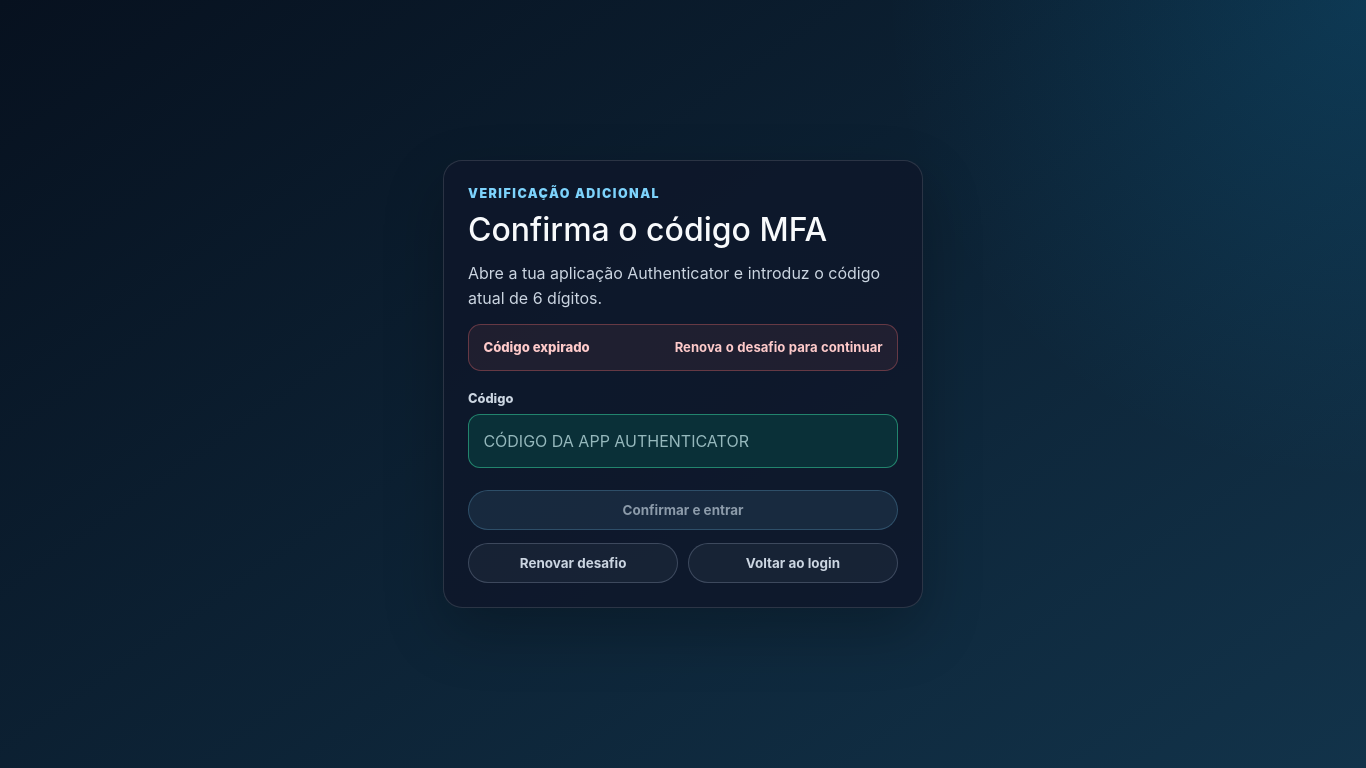
Test case: LoginMFAComponent › lets users renew an expired challenge directly from the MFA screen
Expected: the submit button is disabled, [468, 490, 898, 530]
What coordinates should you click on to do the following:
click the button "Renovar desafio"
I would click on:
 (573, 563)
Its box is [468, 543, 678, 583].
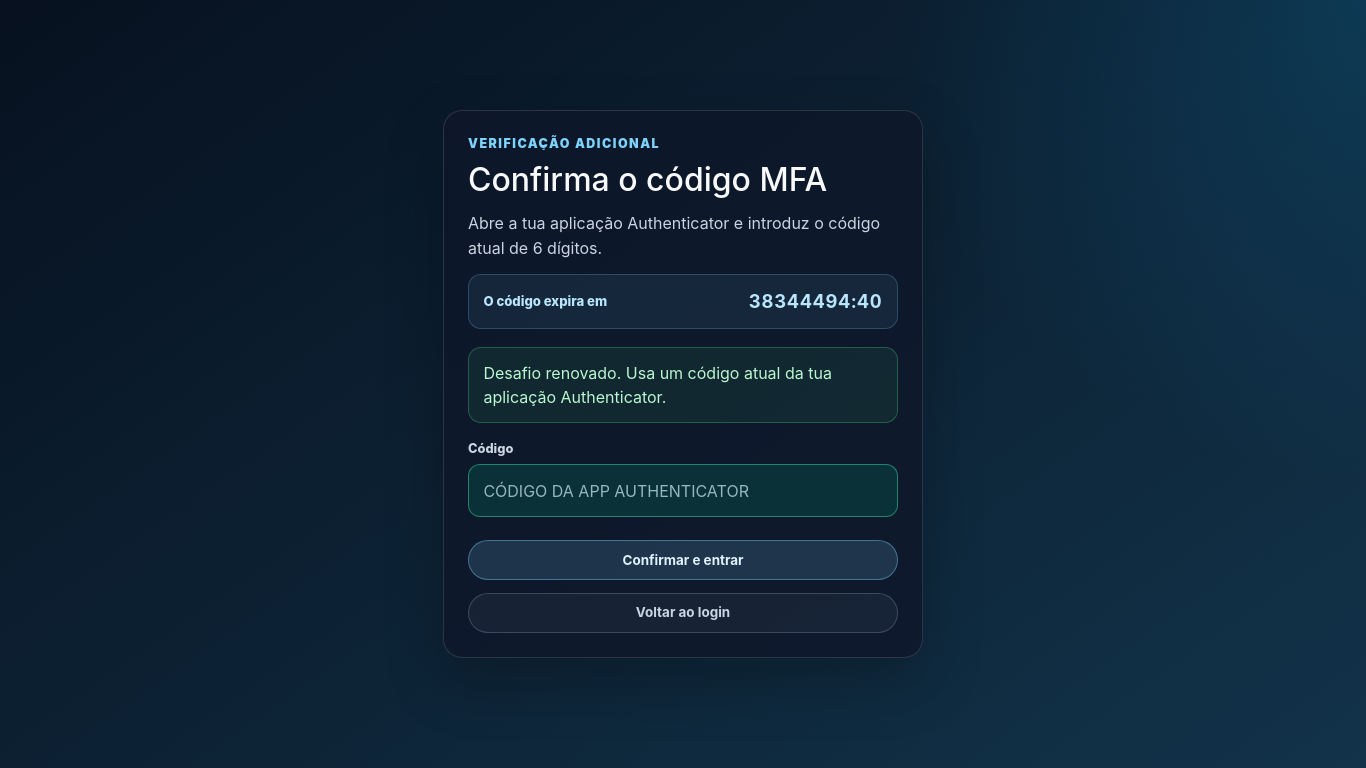
Result: the submit button is enabled at [468, 540, 898, 580]
